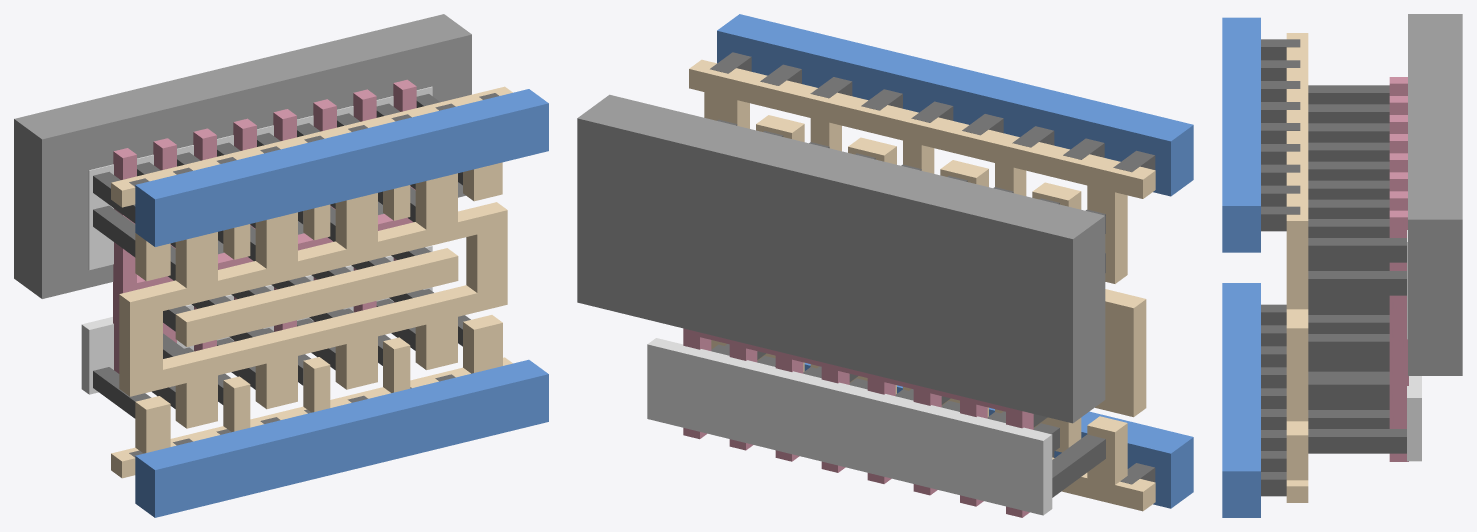
Rendered from sky130_fd_sc_hd__inv_8.gds.gltf.
3 renders of one model, left to right at view 1: azimuth 30°, elevation 25°; view 2: azimuth 150°, elevation 25°; view 3: azimuth 270°, elevation 25°, orthographic. The views are drawn at different scales.
Parts seen in each view (by area): view 1: sky130_fd_sc_hd__inv_8_li1, sky130_fd_sc_hd__inv_8_met1, sky130_fd_sc_hd__inv_8_nwell, sky130_fd_sc_hd__inv_8_licon, sky130_fd_sc_hd__inv_8_poly, sky130_fd_sc_hd__inv_8_diff, sky130_fd_sc_hd__inv_8_mcon; view 2: sky130_fd_sc_hd__inv_8_nwell, sky130_fd_sc_hd__inv_8_diff, sky130_fd_sc_hd__inv_8_li1, sky130_fd_sc_hd__inv_8_met1, sky130_fd_sc_hd__inv_8_poly, sky130_fd_sc_hd__inv_8_mcon, sky130_fd_sc_hd__inv_8_licon; view 3: sky130_fd_sc_hd__inv_8_licon, sky130_fd_sc_hd__inv_8_nwell, sky130_fd_sc_hd__inv_8_met1, sky130_fd_sc_hd__inv_8_mcon, sky130_fd_sc_hd__inv_8_li1, sky130_fd_sc_hd__inv_8_poly, sky130_fd_sc_hd__inv_8_diff.
Boxes of the visible parts, x1,y1,x2,y2 form: sky130_fd_sc_hd__inv_8_li1: (111,86,512,478); sky130_fd_sc_hd__inv_8_met1: (135,89,548,517); sky130_fd_sc_hd__inv_8_nwell: (14,14,471,298); sky130_fd_sc_hd__inv_8_licon: (93,94,470,418); sky130_fd_sc_hd__inv_8_poly: (113,79,416,373); sky130_fd_sc_hd__inv_8_diff: (81,86,432,394); sky130_fd_sc_hd__inv_8_mcon: (129,93,498,457); sky130_fd_sc_hd__inv_8_nwell: (577,94,1105,423); sky130_fd_sc_hd__inv_8_diff: (647,338,1052,515); sky130_fd_sc_hd__inv_8_li1: (689,59,1155,511); sky130_fd_sc_hd__inv_8_met1: (717,14,1193,508); sky130_fd_sc_hd__inv_8_poly: (683,328,1033,517); sky130_fd_sc_hd__inv_8_mcon: (710,52,1155,484); sky130_fd_sc_hd__inv_8_licon: (711,119,1105,497); sky130_fd_sc_hd__inv_8_licon: (1308,85,1406,453); sky130_fd_sc_hd__inv_8_nwell: (1408,14,1462,375); sky130_fd_sc_hd__inv_8_met1: (1222,17,1260,517); sky130_fd_sc_hd__inv_8_mcon: (1261,39,1300,496); sky130_fd_sc_hd__inv_8_li1: (1286,33,1308,502); sky130_fd_sc_hd__inv_8_poly: (1389,77,1408,461); sky130_fd_sc_hd__inv_8_diff: (1407,230,1421,461).
Size of the model in its own units: 4.52 by 3.2 by 2.24.
